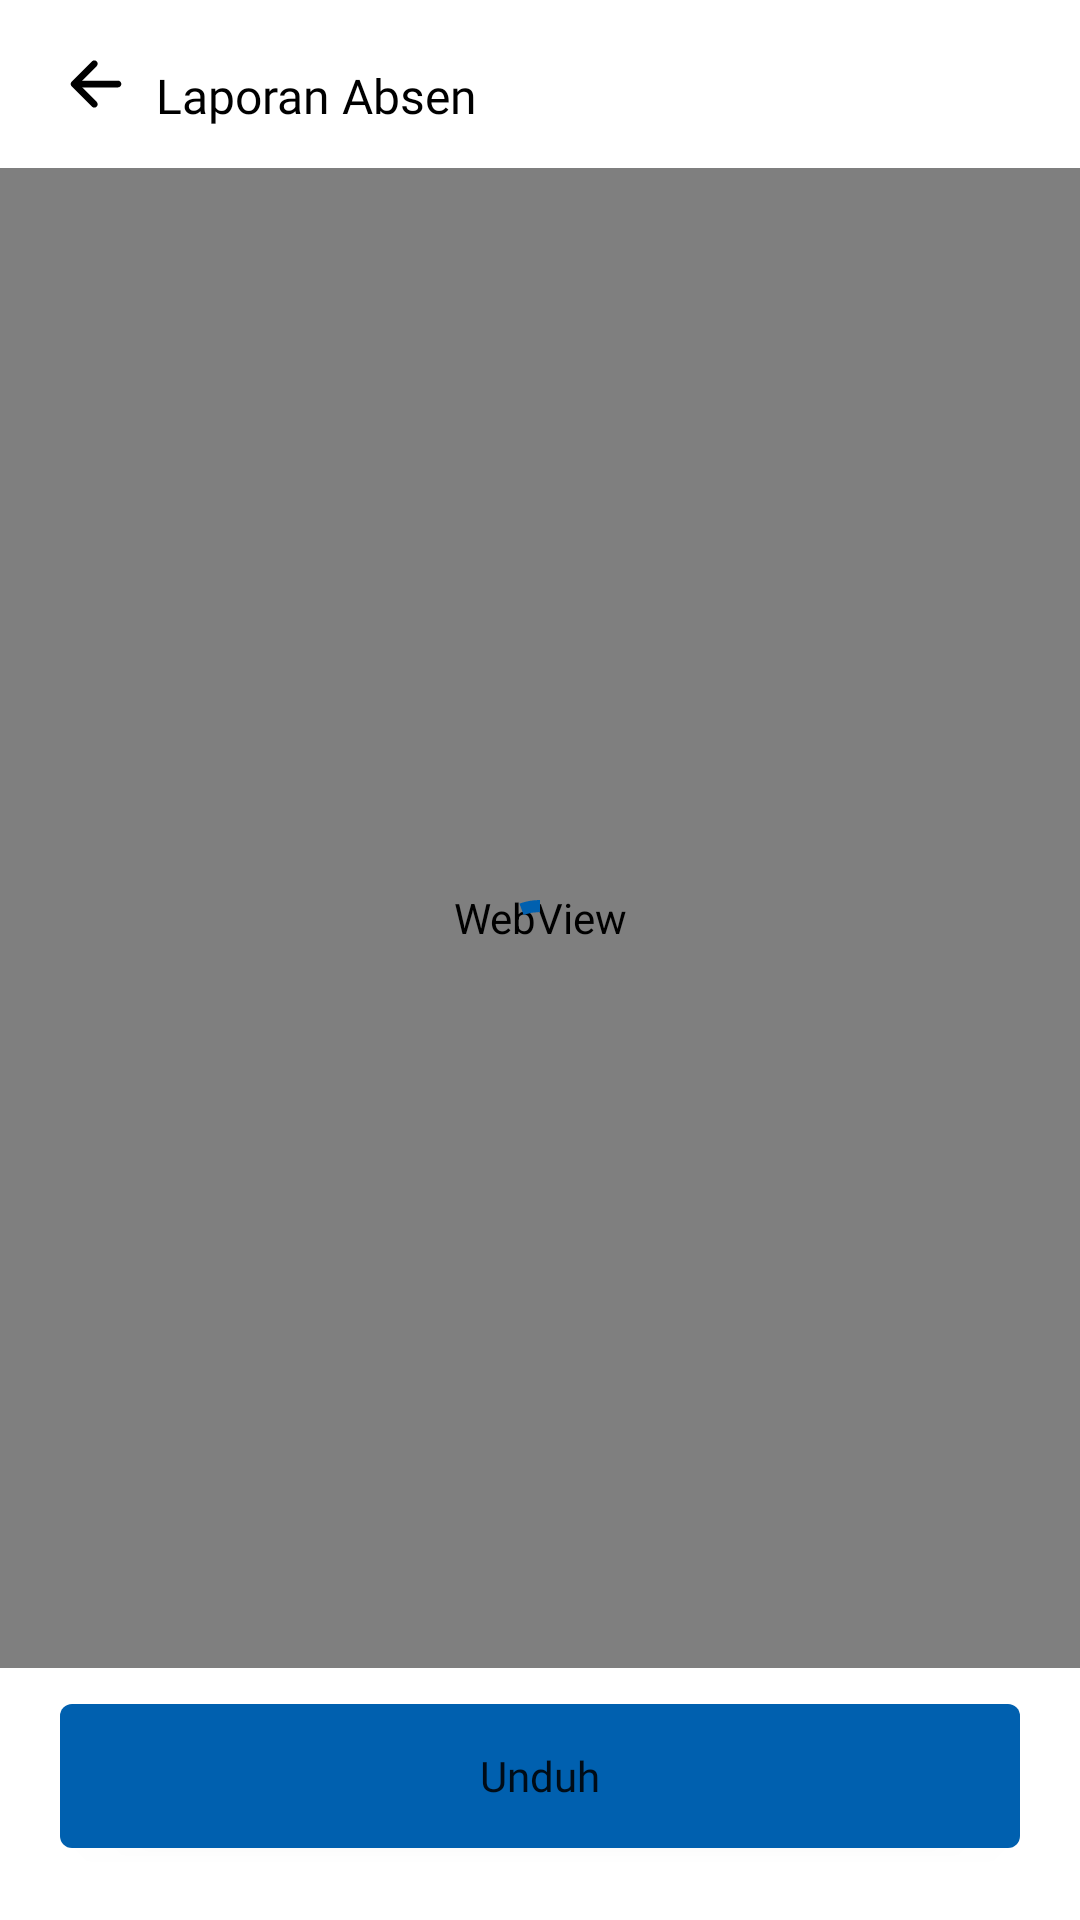

Icons on this 1080x1920 Android screen, each with its box as [x1,y1,x2,y2]:
arrow left: [70,60,122,108]
